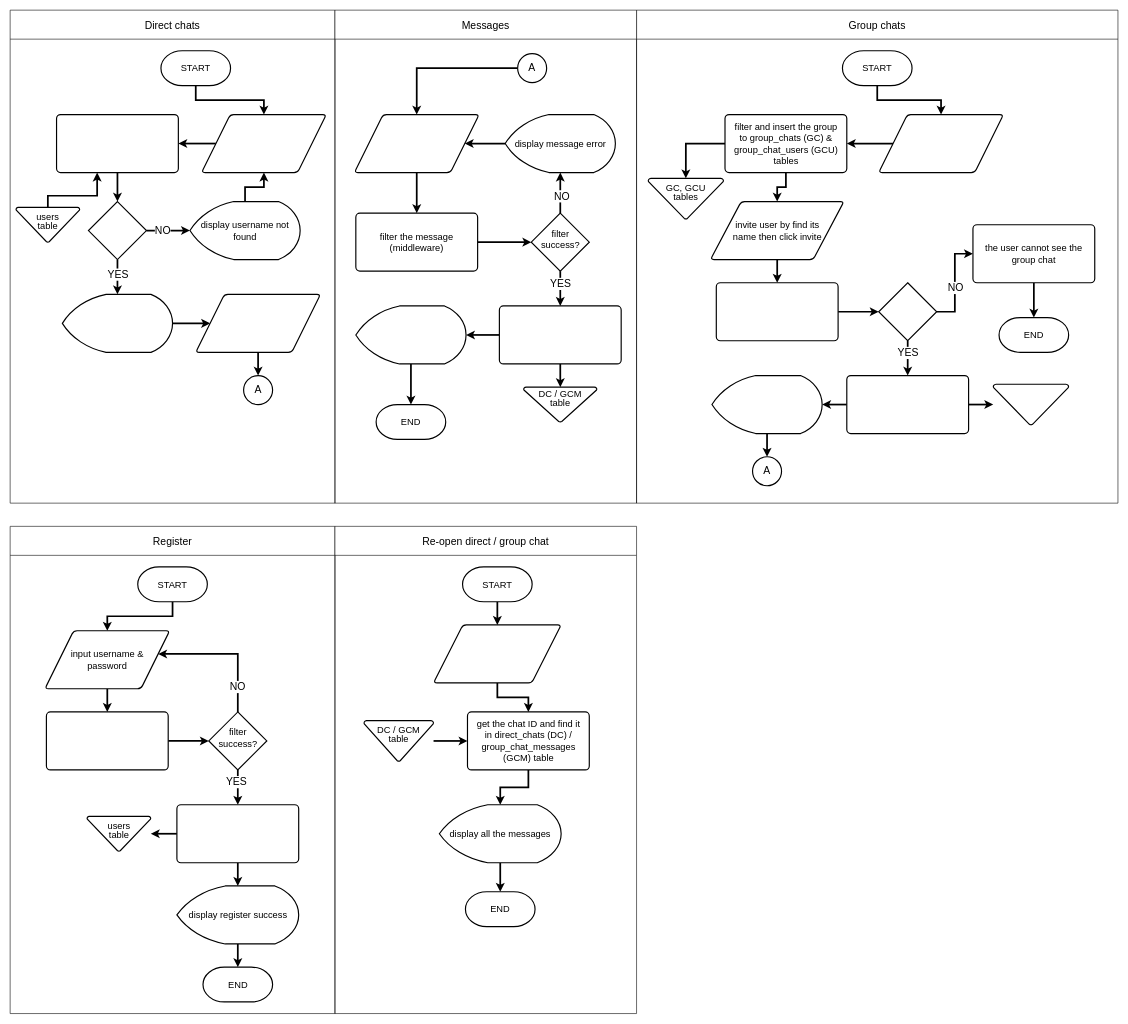
This 1128x1024 diagram has some shape labels left out. The centre of each missing label's shape, as x and y in pixels:
"create group chat" goes at point (941, 143).
"display check icon as sign of success" goes at point (410, 334).
"display new user joined message" goes at point (766, 404).
"display username list" goes at point (117, 323).
"find the name in database (%LIKE% query)" goes at point (117, 143).
"GCU tables" goes at point (1030, 404).
"hash password then insert to database" goes at point (237, 833).
"input message to direct_chats (DC) / group_chat_messages (GCM) table" goes at point (560, 334).
"is link clicked?" goes at point (907, 311).
"look for user's name in search box" goes at point (264, 143).
"name found?" goes at point (117, 230).
"open any direct / group chat on the list" goes at point (497, 653).
"select user to chat with" goes at point (258, 323).
"send invite message to target user and wait for user to click on that link" goes at point (776, 311).
"send message" goes at point (416, 143).
"send those data to server and filter it" goes at point (107, 740).
"the user can see the group chat, then update the group_chat_users table" goes at point (907, 404).
